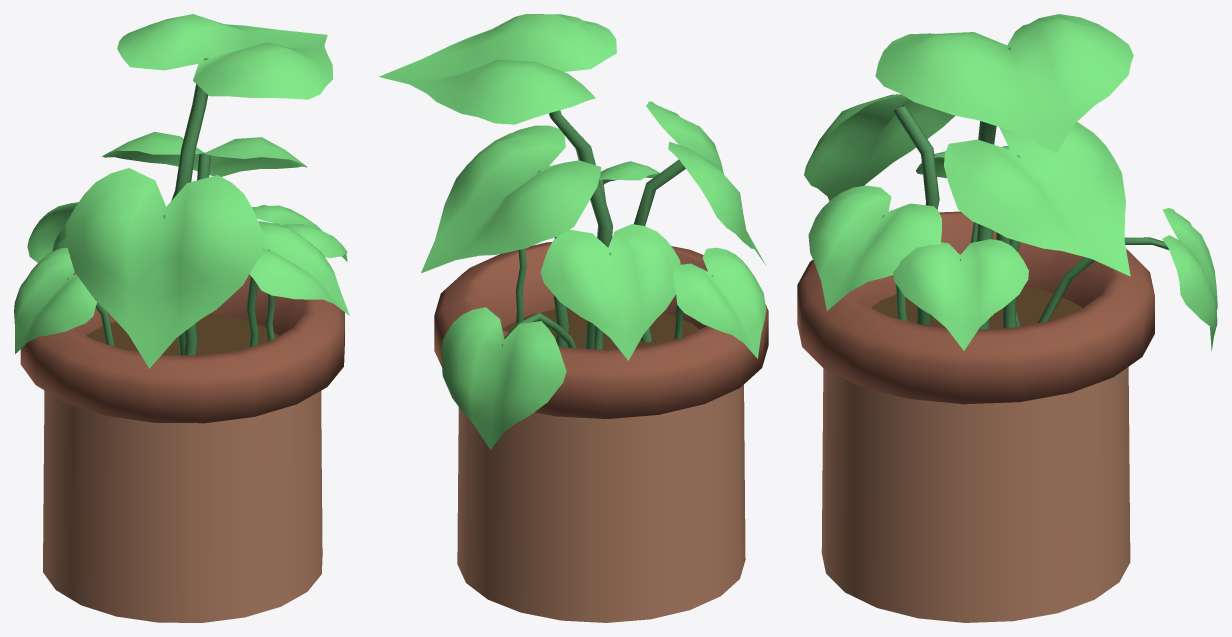
File: Planta.01.fbx
The picture shows the model from 3 angles, left to right: view 1: azimuth 30°, elevation 25°; view 2: azimuth 150°, elevation 25°; view 3: azimuth 270°, elevation 25°; orthographic projection. The views are drawn at different scales.
Visible parts, largest first — view 1: Planta.005; view 2: Planta.005; view 3: Planta.005.
Boxes of the visible parts, box(x1,y1,x2,y2) form: Planta.005: box(14, 14, 349, 622); Planta.005: box(379, 14, 768, 622); Planta.005: box(797, 14, 1217, 622).
Size of the model in its own units: 0.393 by 0.382 by 0.5559.
